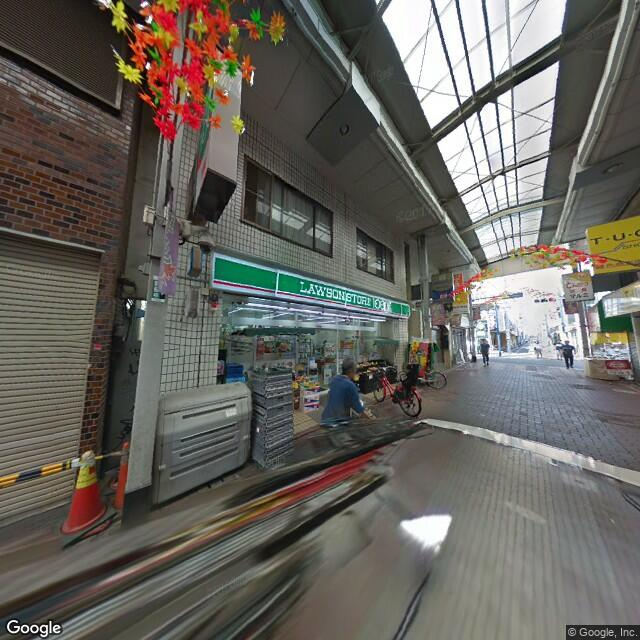lawson: (213, 252, 409, 320)
